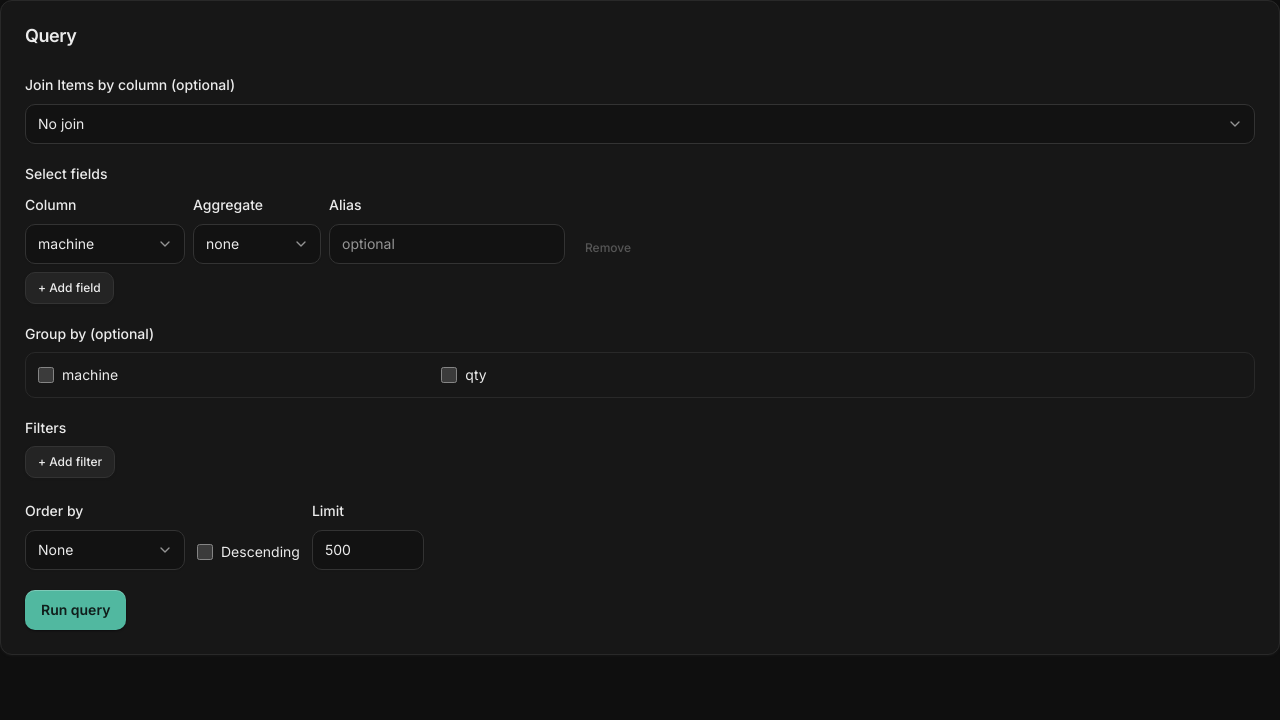
QueryPanel › shows query errors
Step 1. Click the button "Run query" → x=76, y=610, box [25,590,126,630]
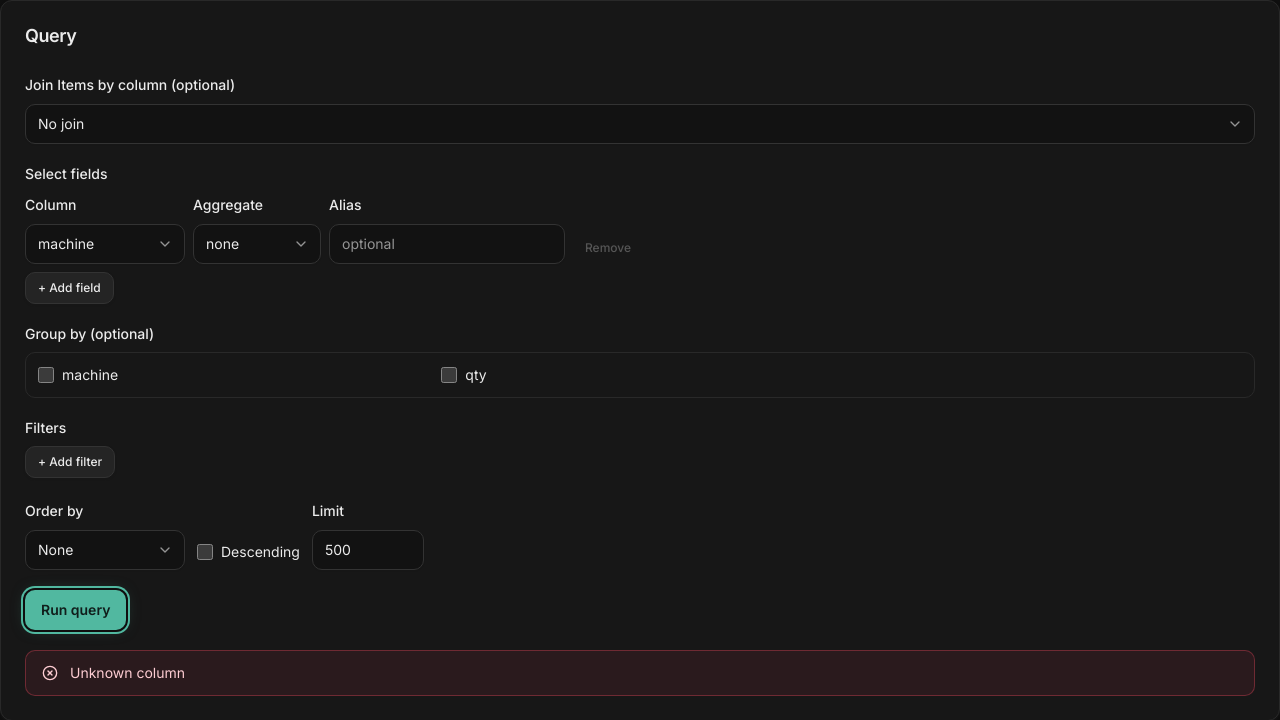
Now the text "Unknown column" is shown, box [70,662,185,682]
